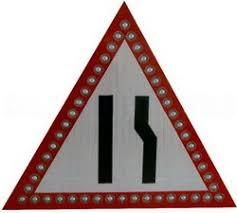narrow_road: (0, 0, 236, 207)
